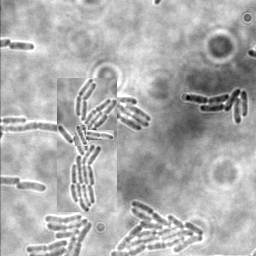Dividing: (1, 123, 56, 142), (8, 41, 35, 52), (86, 130, 114, 140)
Microcolony: (57, 78, 117, 212), (109, 200, 205, 255), (25, 212, 94, 255), (184, 89, 248, 126), (117, 96, 150, 132), (16, 182, 48, 193)
Rod: (75, 125, 88, 146)
